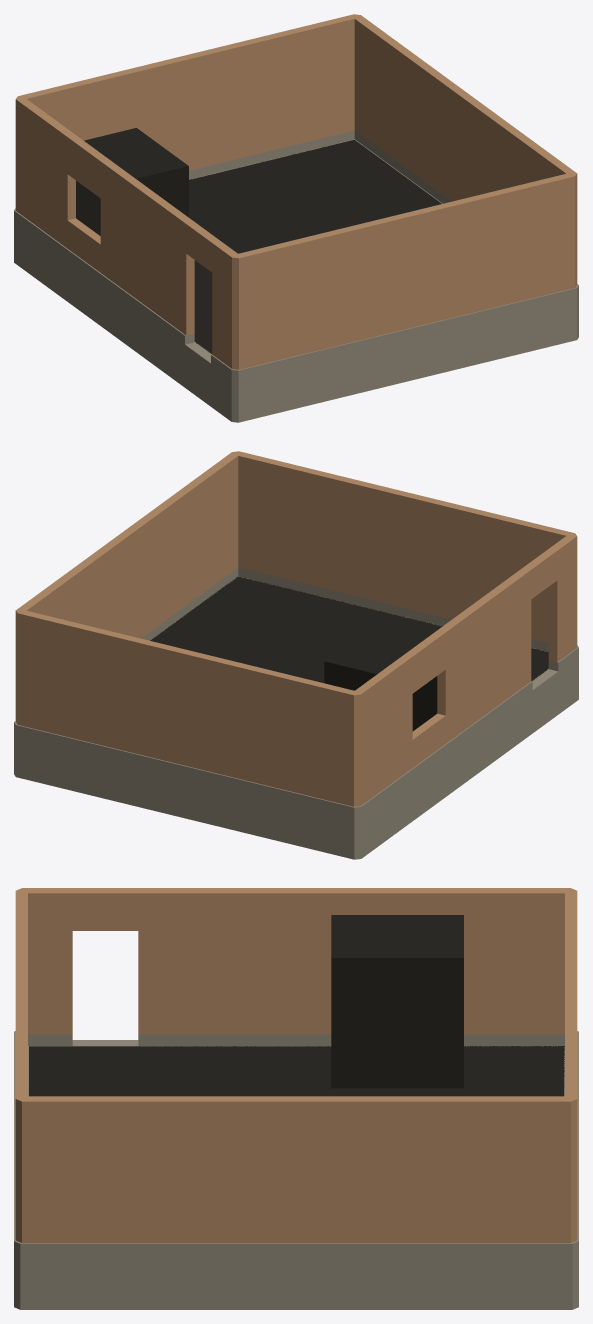
Rendered from SM_Homes_H01_Shell_LOD2.fbx.
The picture shows the model from 3 angles, top to bottom: view 1: azimuth 30°, elevation 25°; view 2: azimuth 150°, elevation 25°; view 3: azimuth 270°, elevation 25°; orthographic projection. The views are drawn at different scales.
Visible parts, largest first — view 1: SM_Homes_H01_Shell_LOD2; view 2: SM_Homes_H01_Shell_LOD2; view 3: SM_Homes_H01_Shell_LOD2.
Part boxes in pixels (x1=…): SM_Homes_H01_Shell_LOD2: x1=14, y1=14, x2=578, y2=422; SM_Homes_H01_Shell_LOD2: x1=14, y1=451, x2=578, y2=859; SM_Homes_H01_Shell_LOD2: x1=14, y1=888, x2=578, y2=1309.
Bounding box in the file's own units: 9.06 × 10.06 × 4.08.
